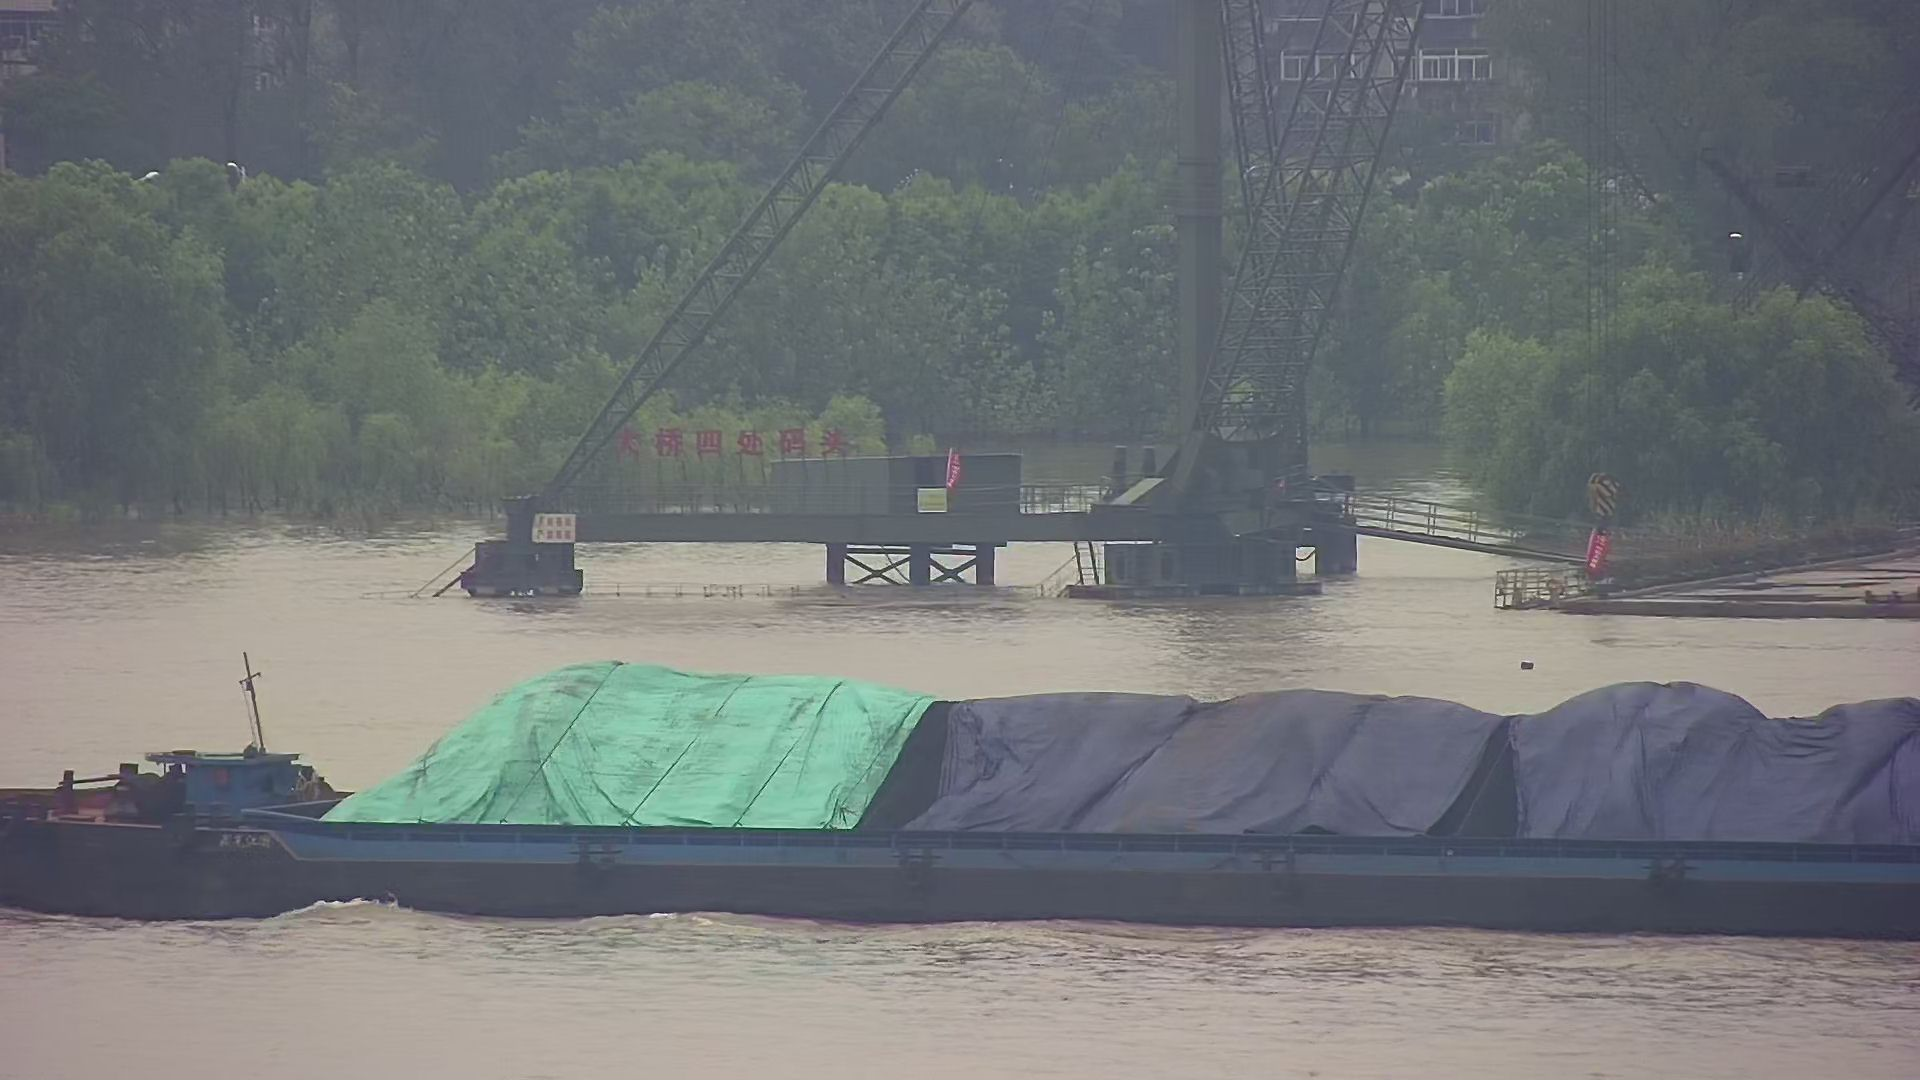platform: (411, 1, 1375, 611)
rubbish: (1513, 653, 1549, 676)
ship: (3, 638, 1920, 934)
